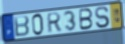0: (31, 13, 45, 36)
3: (63, 10, 78, 32)
B: (13, 15, 30, 38), (79, 8, 94, 31)
R: (47, 12, 62, 34)
S: (94, 6, 110, 29)
